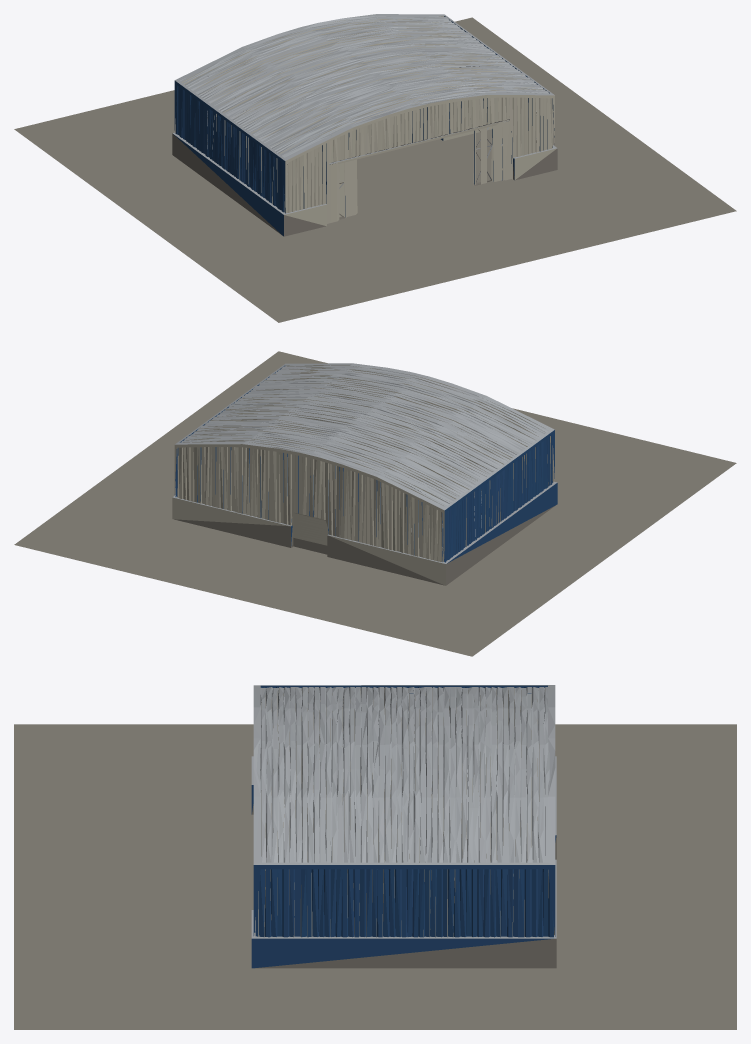
Rendered from hangar.zfix-v14.lod0.glb.
3 renders of one model, top to bottom at view 1: azimuth 30°, elevation 25°; view 2: azimuth 150°, elevation 25°; view 3: azimuth 270°, elevation 25°, orthographic. The views are drawn at different scales.
Parts seen in each view (by area): view 1: Object_3; view 2: Object_3; view 3: Object_3.
Part boxes in pixels (<box>): Object_3: <box>14,14,736,322</box>; Object_3: <box>14,351,736,656</box>; Object_3: <box>14,685,736,1029</box>.
Size of the model in its own units: 62.35 by 12.68 by 62.35.
